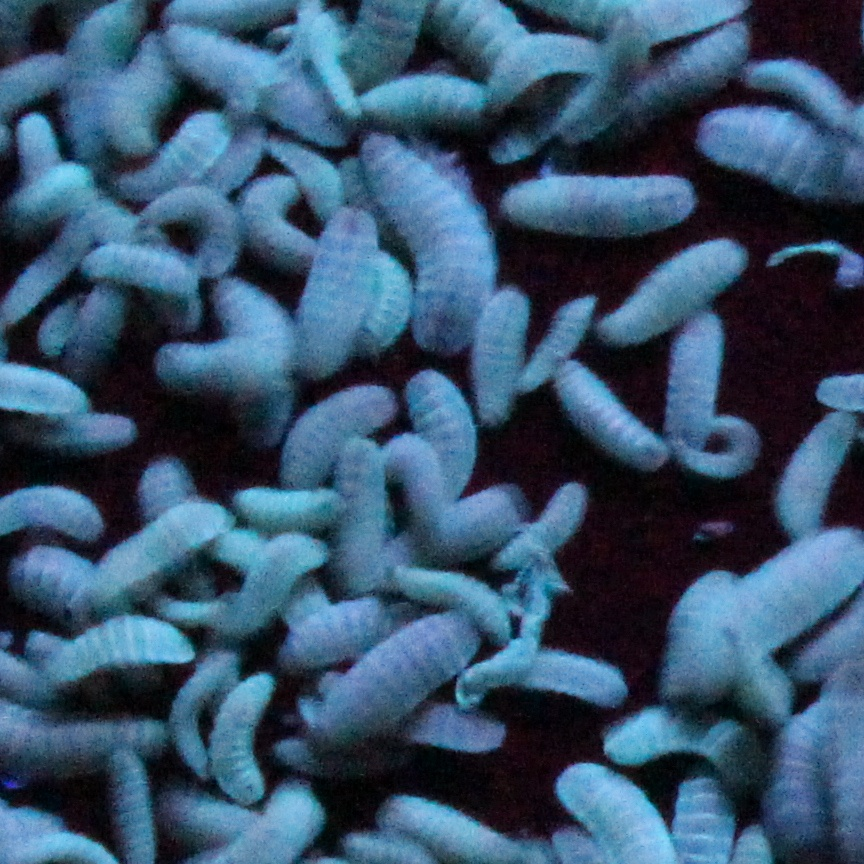larve: (358, 136, 499, 356), (311, 613, 478, 741), (594, 234, 749, 346), (92, 498, 227, 608), (290, 211, 378, 379), (504, 173, 699, 241), (282, 382, 394, 489), (149, 22, 282, 111), (42, 617, 196, 692), (559, 363, 666, 470), (108, 111, 232, 198), (392, 561, 516, 636), (749, 54, 858, 132), (671, 310, 728, 458), (139, 186, 234, 273), (496, 30, 608, 103), (470, 289, 530, 425), (785, 413, 854, 530), (499, 482, 584, 573), (211, 673, 268, 798), (415, 380, 477, 492), (228, 477, 346, 534), (9, 158, 94, 236), (151, 337, 280, 384), (270, 142, 349, 218), (359, 75, 487, 120), (684, 415, 758, 484), (123, 41, 168, 146), (370, 244, 411, 356), (11, 413, 139, 448)
